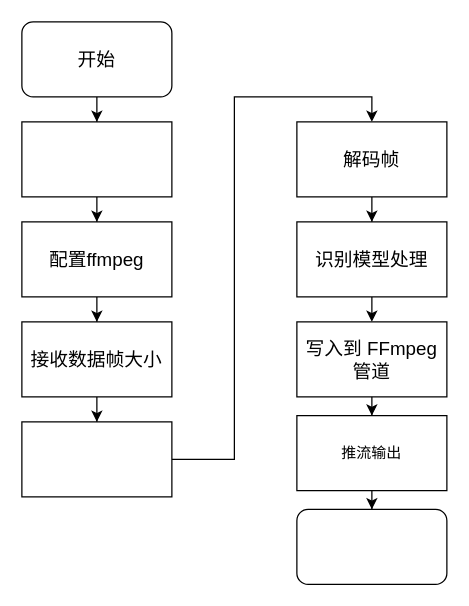
The diagram is 469 pixels wide and 606 high, and some of its shapes have lost their labels. The centre of each missing label's shape, as x and y in pixels:
Socket连接树莓派: the point at 96,159
接收数据帧: the point at 96,459
退出: the point at 371,546
